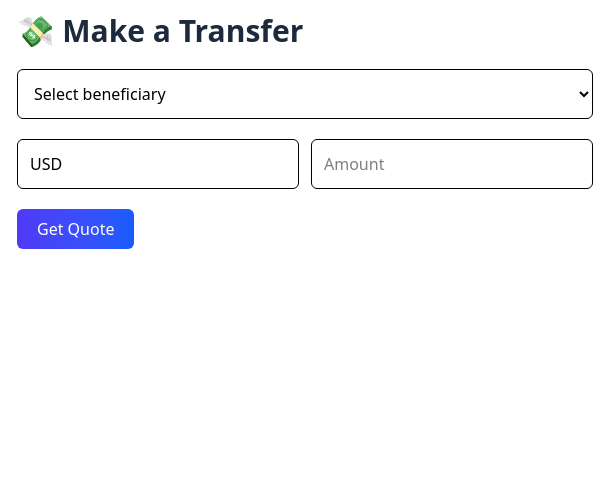
Test: Transfer › renders quote info
This screenshot has width=611, height=484.
Select "Amit (INR)" in the dropdown at coordinates (305, 94), box [17,69,593,119]
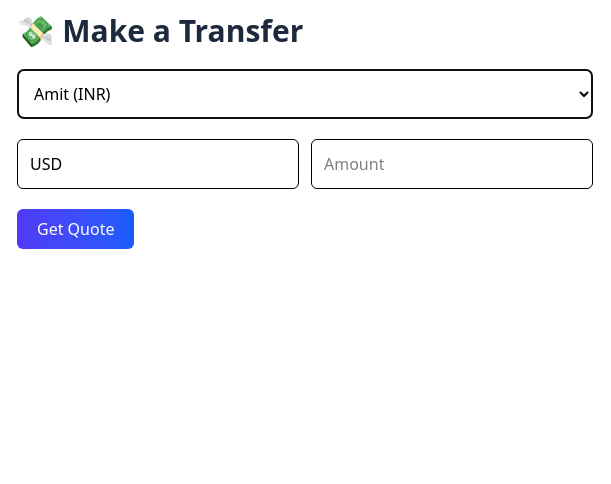
Type "100" into the field with placeholder "Amount" at coordinates (452, 164), box [311,139,593,189]
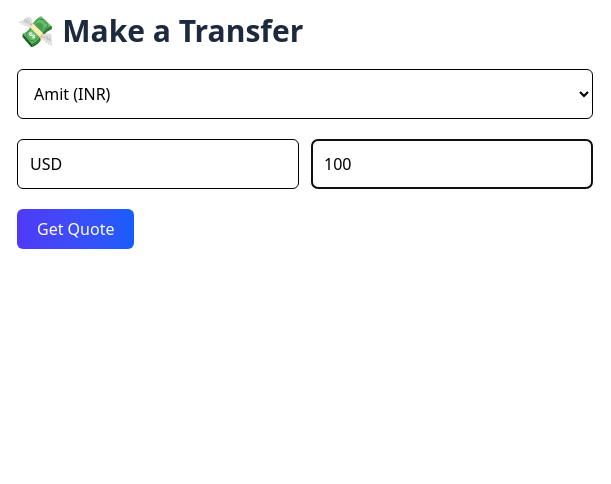
Click the button "Get Quote" at coordinates (76, 229), box [17,209,134,249]
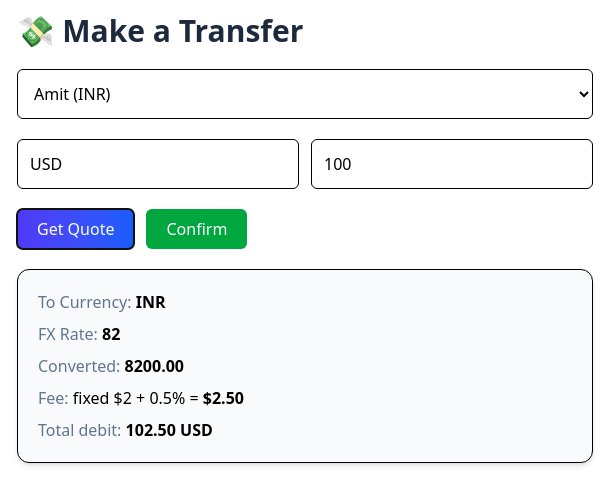
Result: the text "To Currency:" is shown at [38,291,132,313]
Result: the element with id "fx-rate" reads "FX Rate: 82" at [38,323,120,345]
Result: the element with id "converted" reads "Converted: 8200.00" at [124,355,184,377]
